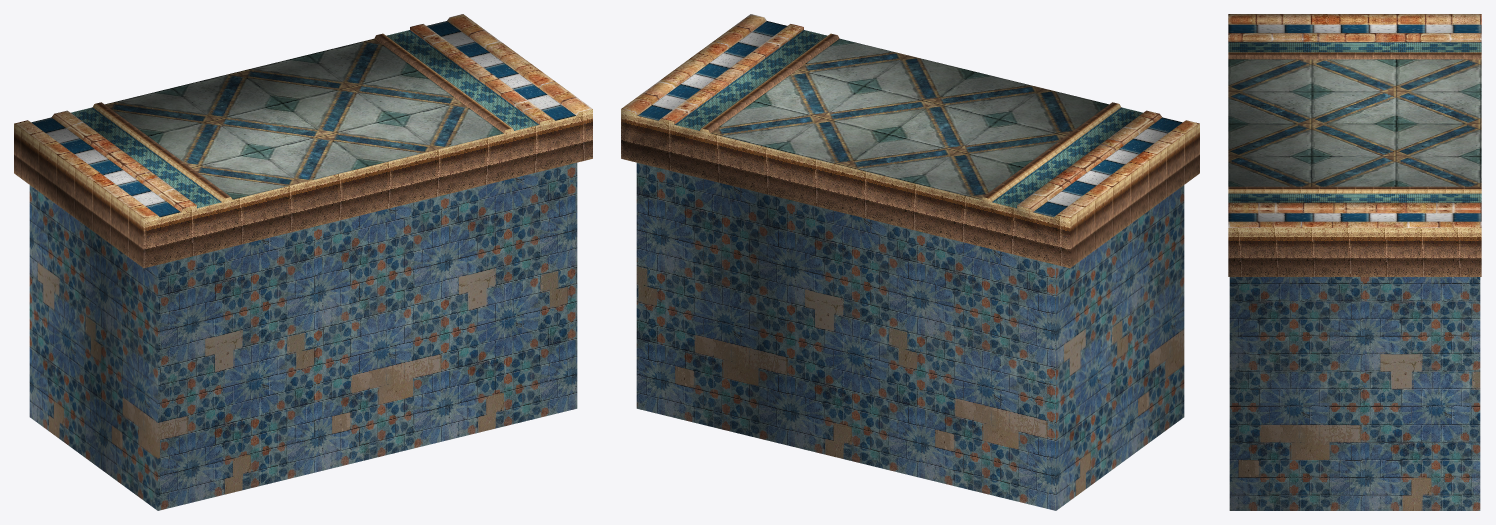
File: OBJBridgeLegless.gltf
3 renders of one model, left to right at view 1: azimuth 30°, elevation 25°; view 2: azimuth 150°, elevation 25°; view 3: azimuth 270°, elevation 25°, orthographic. The views are drawn at different scales.
Visible parts, largest first — view 1: BridgeLegless; view 2: BridgeLegless; view 3: BridgeLegless.
Part boxes in pixels (left/top/right/bottom): BridgeLegless: left=14, top=14, right=592, bottom=510; BridgeLegless: left=621, top=14, right=1199, bottom=510; BridgeLegless: left=1228, top=14, right=1481, bottom=510.
Size of the model in its own units: 8 by 5.05 by 4.
5 materials, 5 textured.
